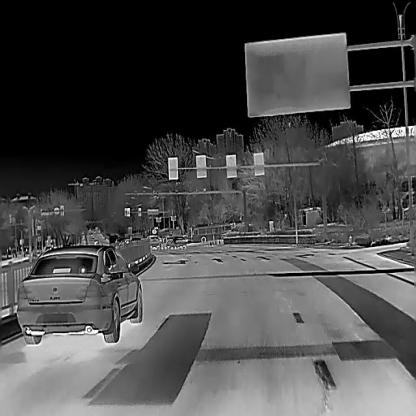bus: (191, 223, 231, 242)
car: (15, 243, 142, 343), (165, 234, 186, 249), (146, 233, 160, 250)
